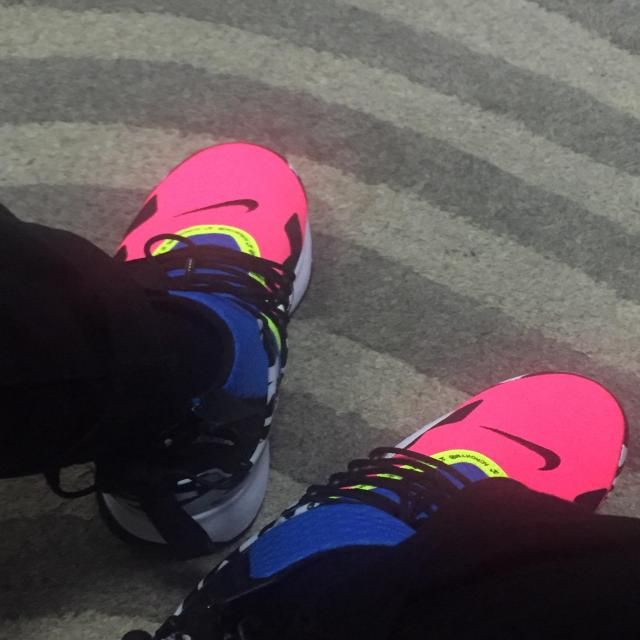shoe: (61, 115, 343, 562), (192, 369, 640, 640)
